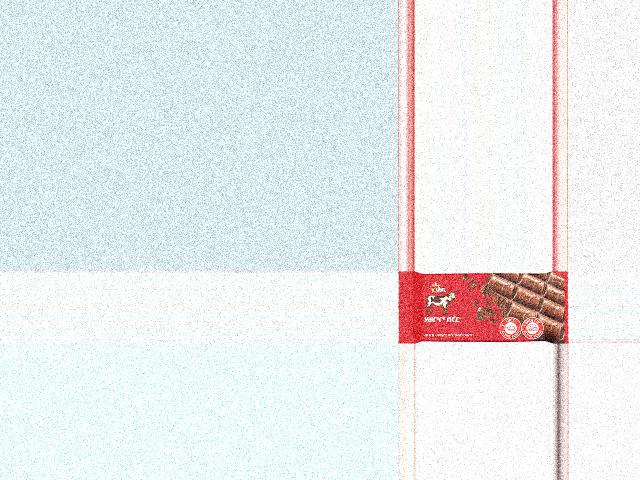chocolate: (400, 272, 568, 344)
